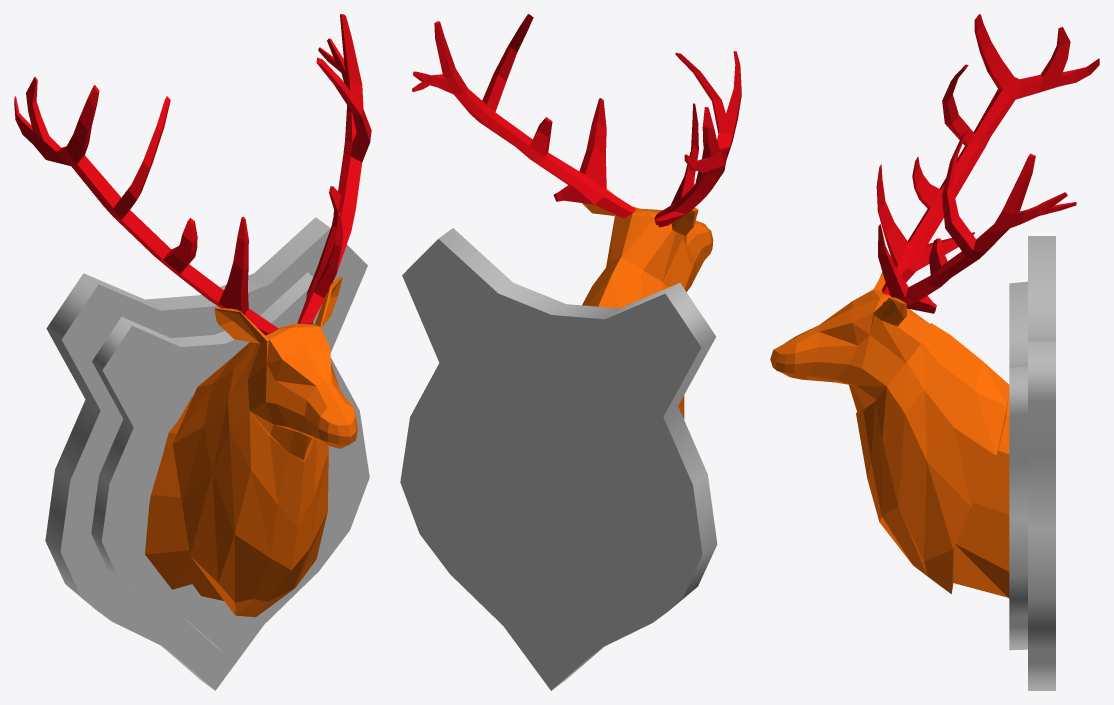
Rendered from deerheadfix.fbx.
3 renders of one model, left to right at view 1: azimuth 30°, elevation 25°; view 2: azimuth 150°, elevation 25°; view 3: azimuth 270°, elevation 25°, orthographic. The views are drawn at different scales.
Visible parts, largest first — view 1: polySurface2, DEERHED.001, DEERHED, polySurface1; view 2: polySurface2, DEERHED, DEERHED.001; view 3: DEERHED.001, DEERHED, polySurface2, polySurface1.
Part boxes in pixels (x1=…): polySurface2: x1=45, y1=217, x2=369, y2=690; DEERHED.001: x1=145, y1=277, x2=357, y2=617; DEERHED: x1=14, y1=14, x2=371, y2=335; polySurface1: x1=91, y1=272, x2=313, y2=652; polySurface2: x1=400, y1=228, x2=717, y2=690; DEERHED: x1=412, y1=14, x2=741, y2=227; DEERHED.001: x1=582, y1=189, x2=713, y2=418; DEERHED.001: x1=770, y1=255, x2=1009, y2=598; DEERHED: x1=876, y1=14, x2=1099, y2=313; polySurface2: x1=1028, y1=236, x2=1055, y2=690; polySurface1: x1=1009, y1=281, x2=1027, y2=650.
Size of the model in its own units: 47.67 by 93.52 by 45.76.
